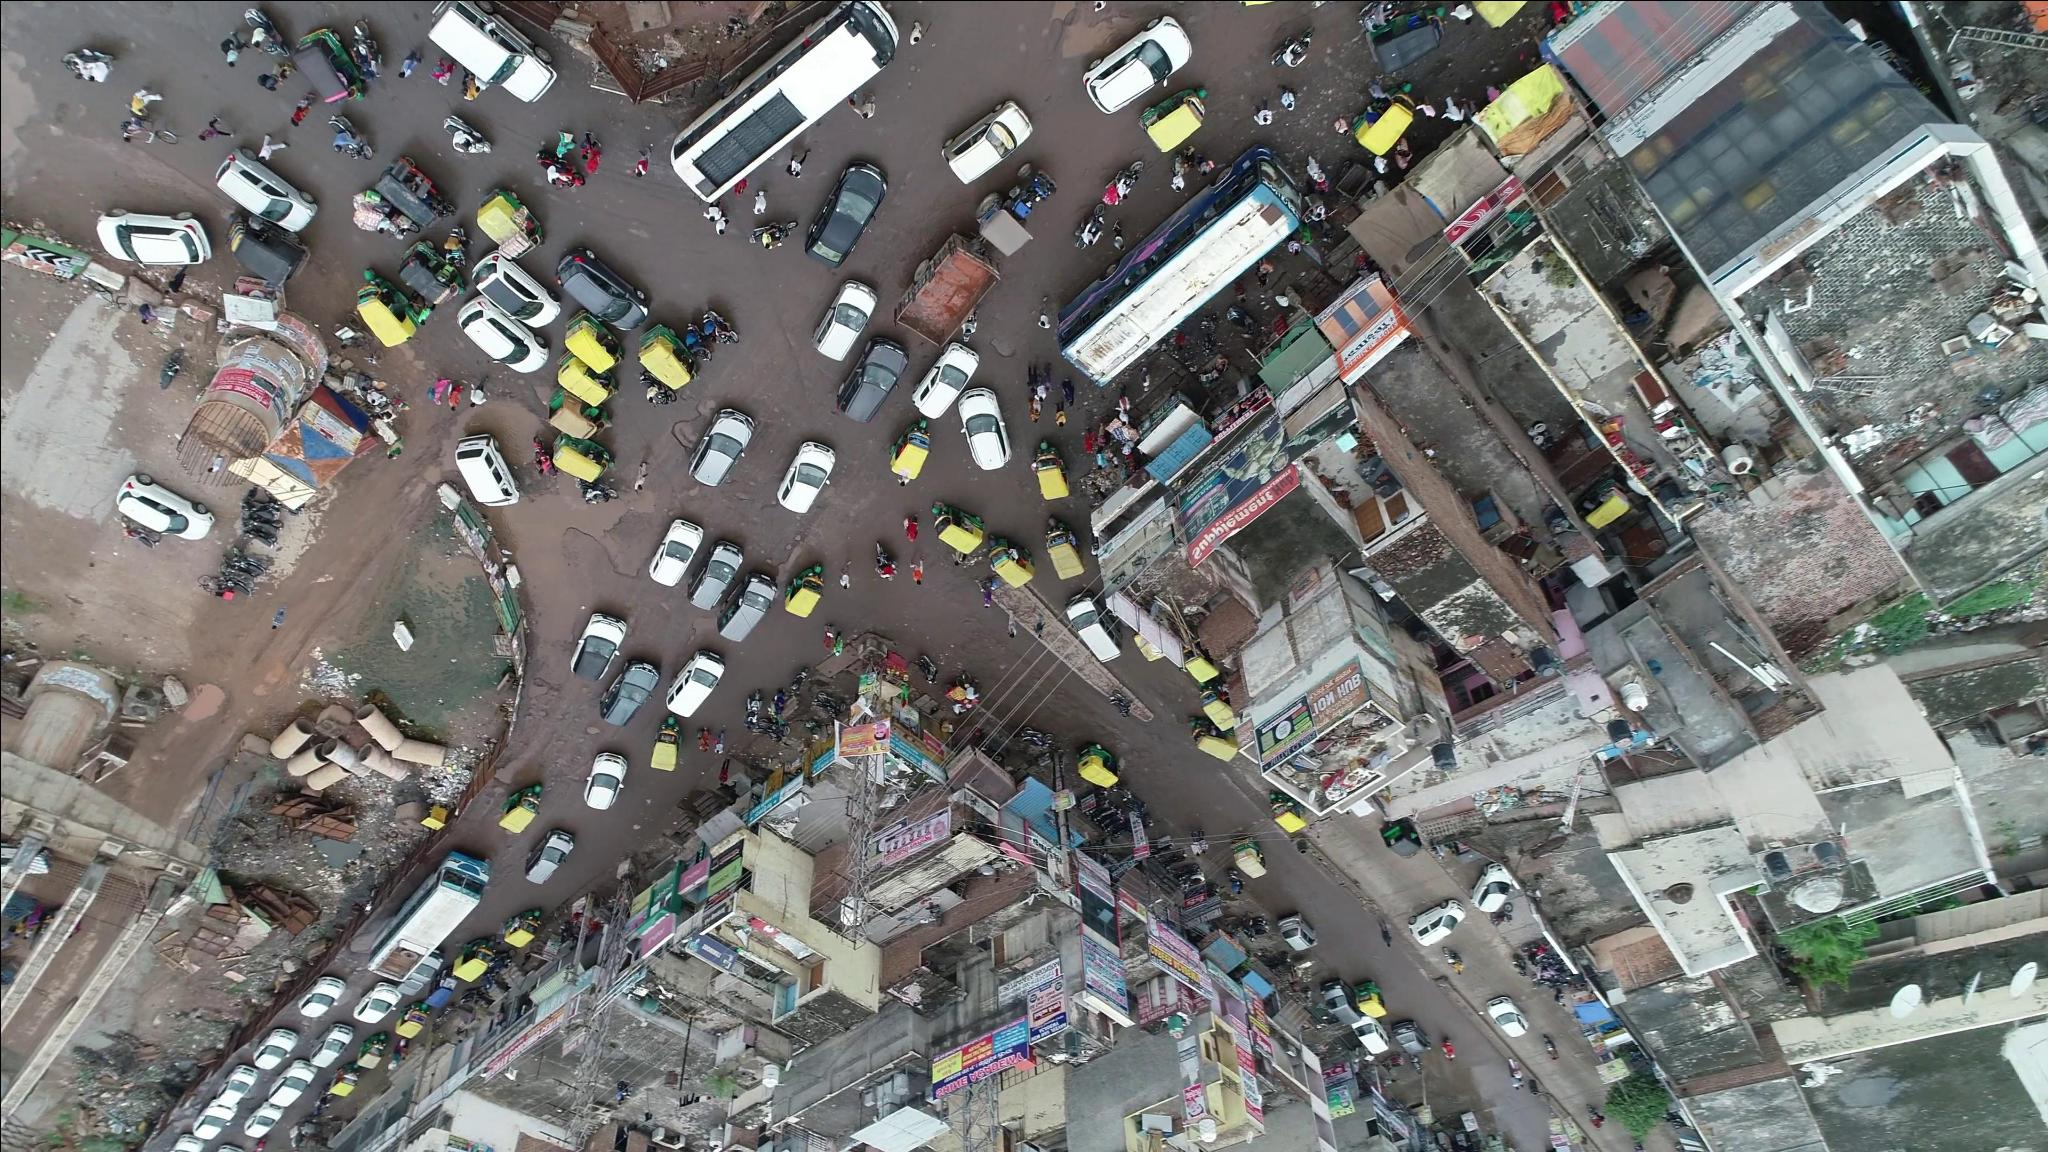Potholes: (765, 525, 805, 565)
